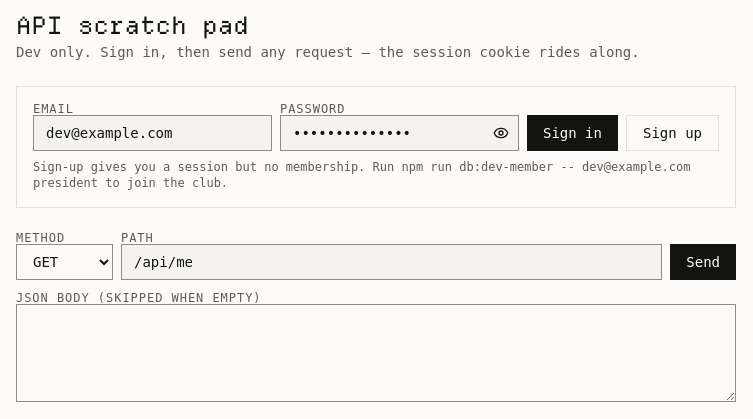
Test: reveals and re-hides the password
Click the button named "show password".
click(501, 133)  # box [483,115,519,151]
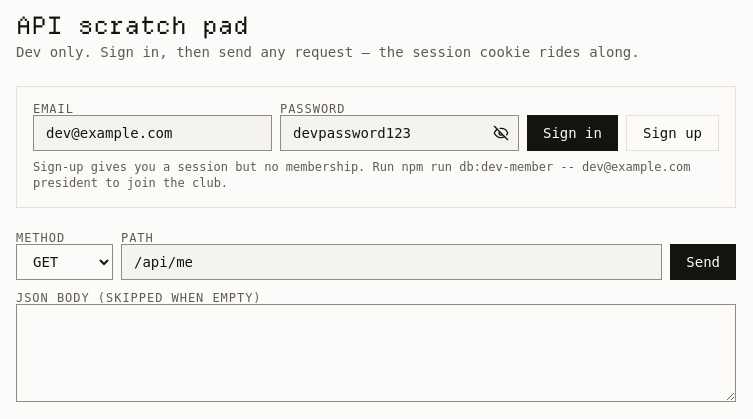
expect the field labelled "Password" shows its text: met, box [280,115,519,151]
Click the button named "hide password".
click(501, 133)  # box [483,115,519,151]
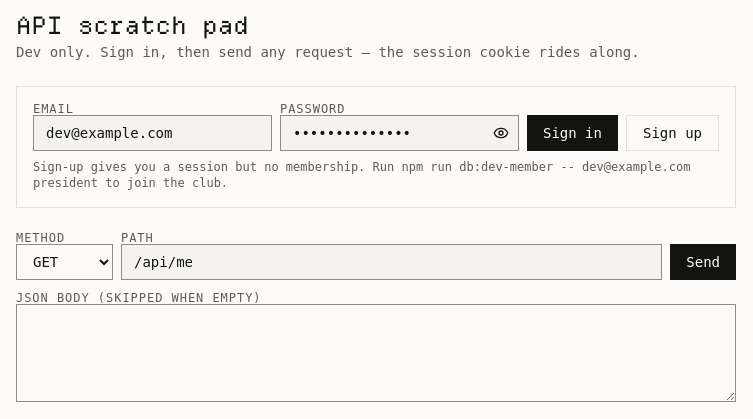
expect the password field labelled "Password" hides its text: met, box [280,115,519,151]
